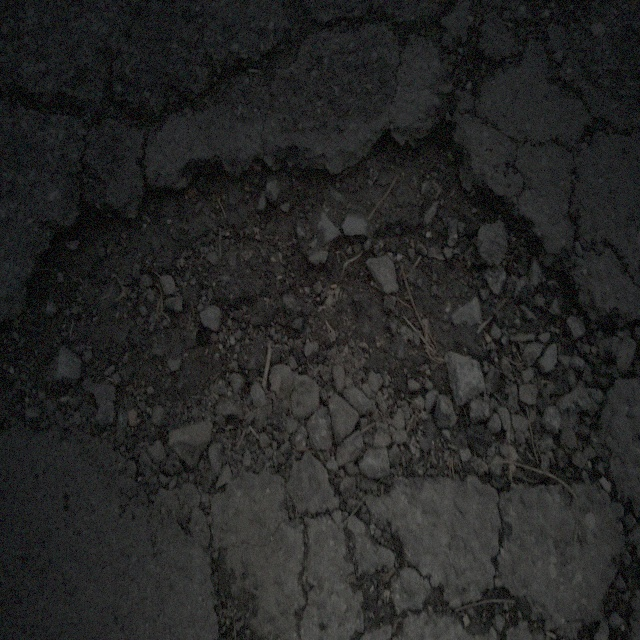pothole: (25, 111, 621, 510)
